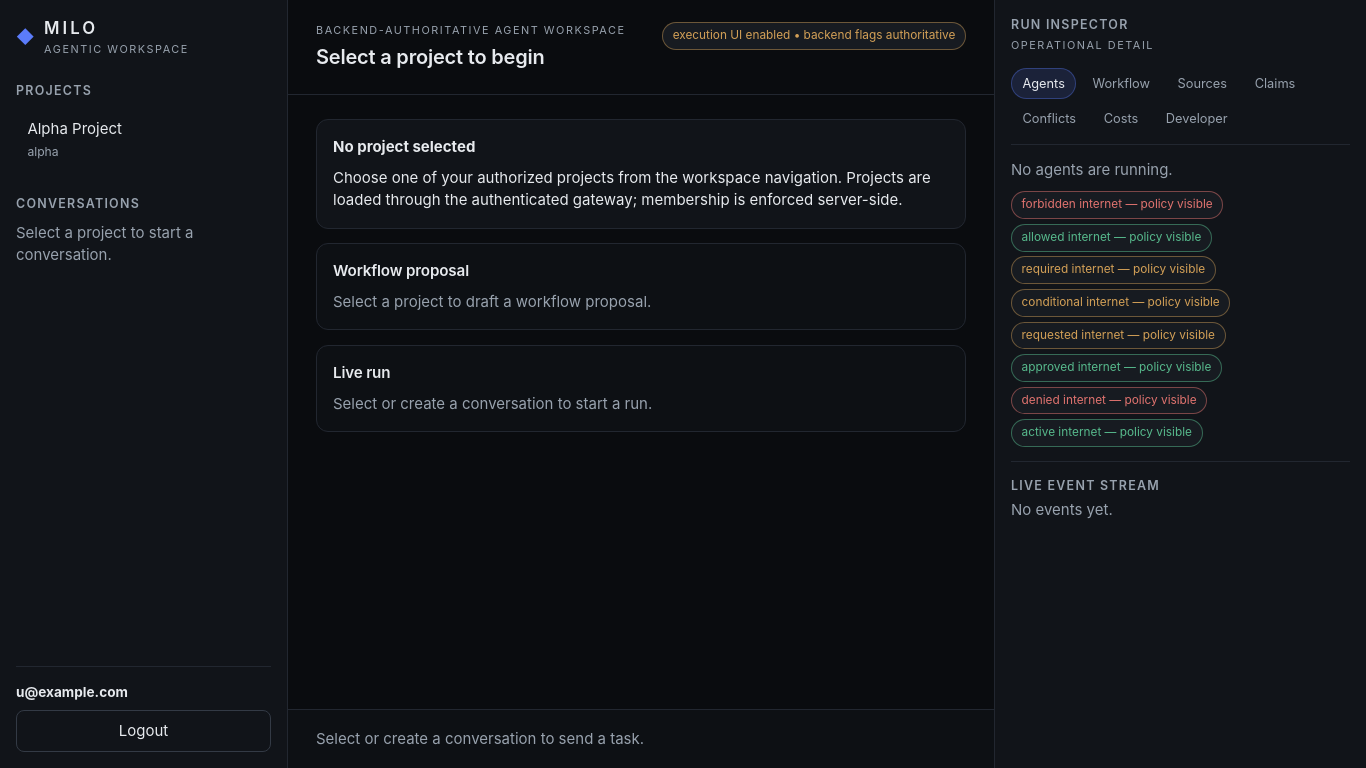
cancellation confirmation focus contract › the confirmation is a labelled group, not a dialog it does not behave like
The image size is (1366, 768).
What coordinates should you click on to do the following:
click the text "Alpha Project"
I would click on:
 (75, 128)
Its box is x1=27 y1=119 x2=122 y2=138.
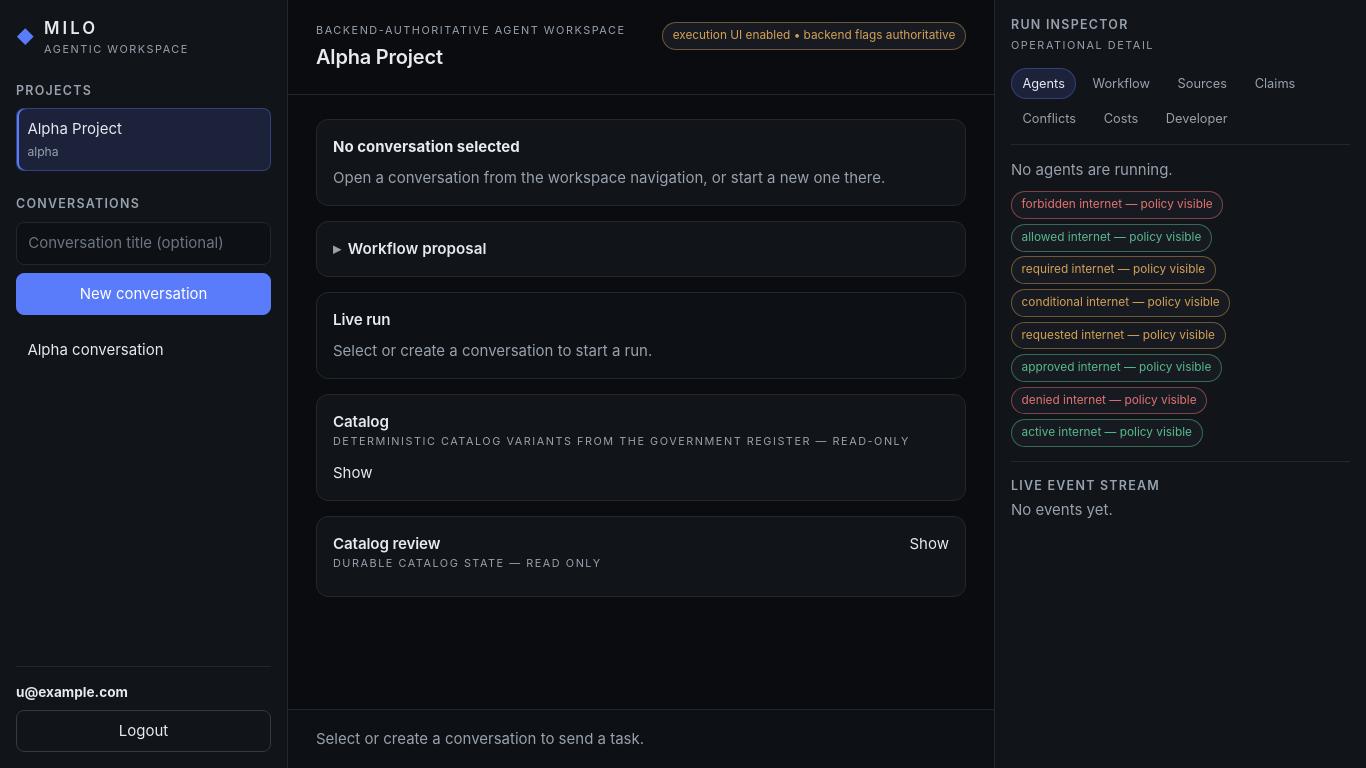
What coordinates should you click on to do the following:
click the button "Alpha conversation"
I would click on:
 (144, 350)
Its box is x1=16 y1=329 x2=271 y2=371.
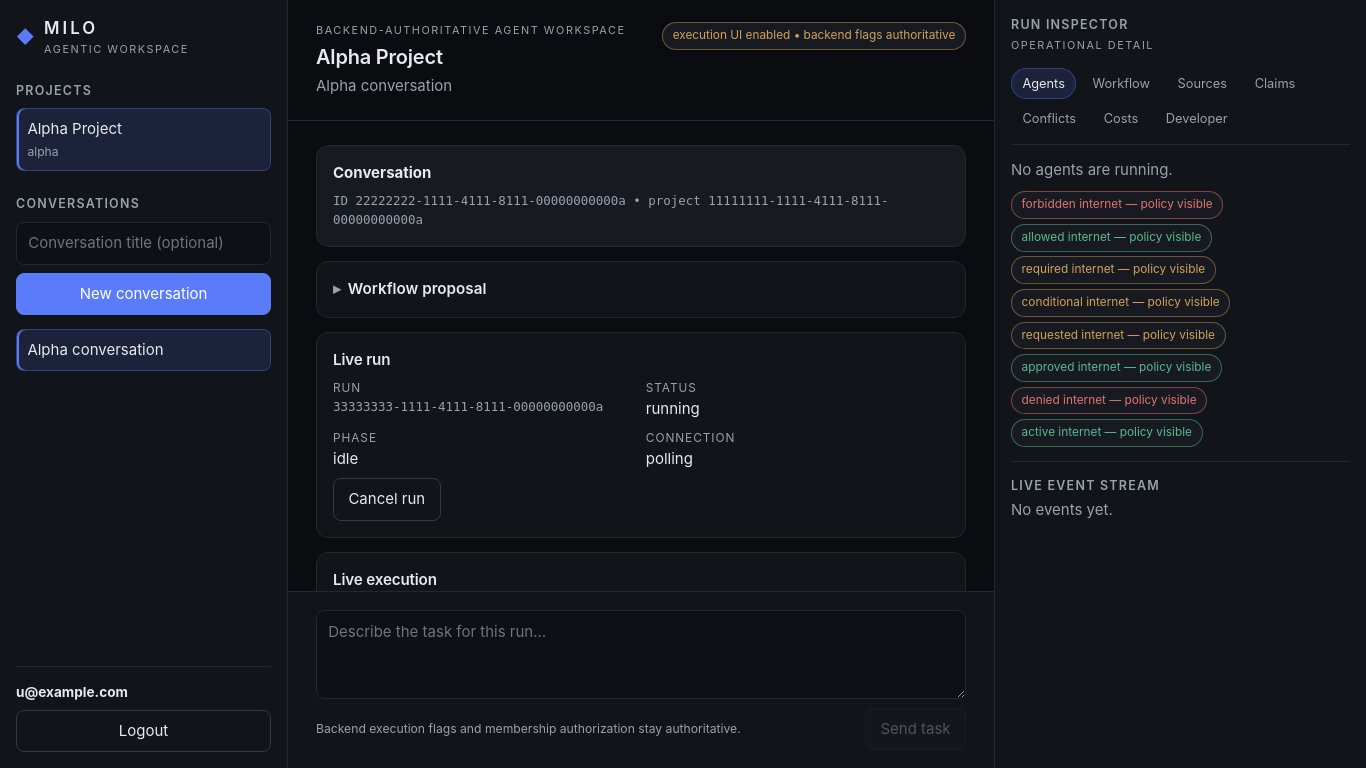
What coordinates should you click on to do the following:
click the button "Cancel run"
I would click on:
 (387, 499)
Its box is x1=333 y1=478 x2=441 y2=520.
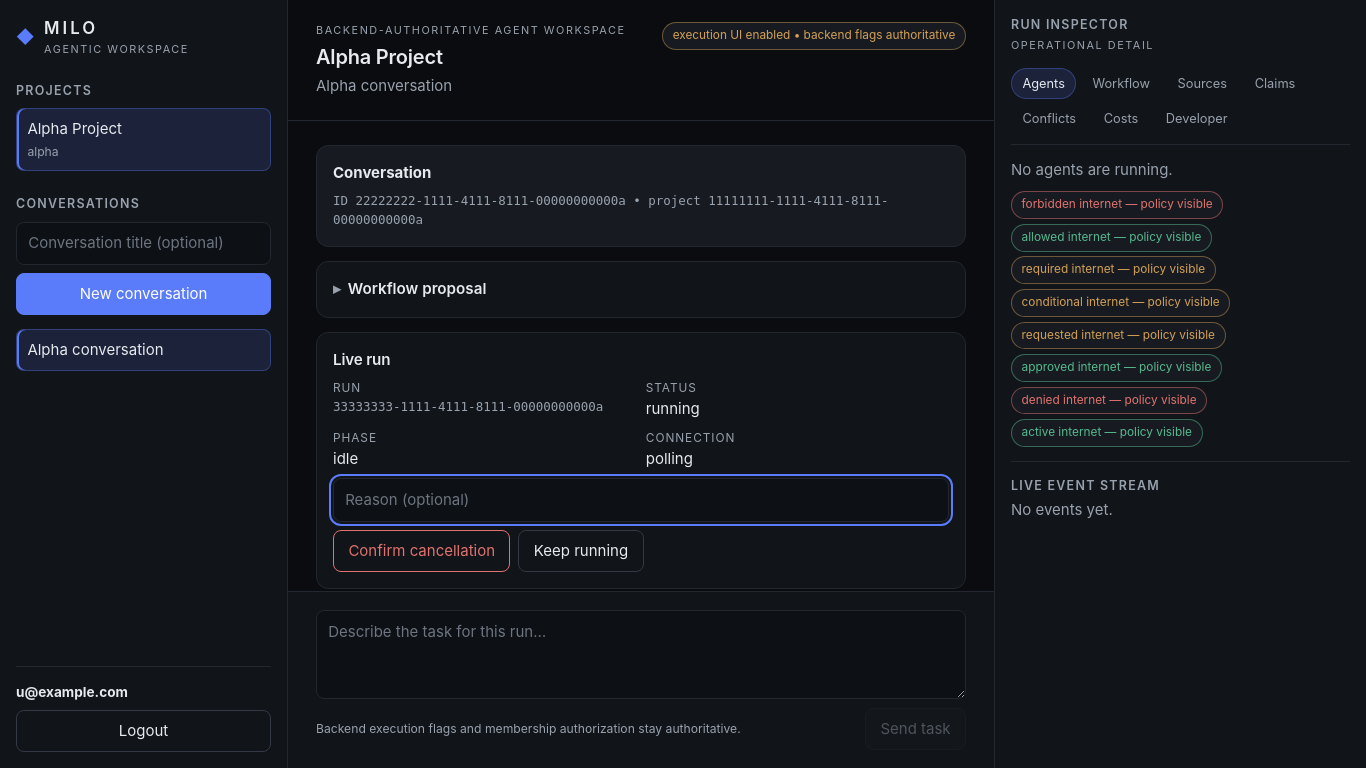
Expected: the button "Confirm cancellation" is shown, x1=333 y1=530 x2=510 y2=572
Expected: the button "Keep running" is shown, x1=518 y1=530 x2=644 y2=572
